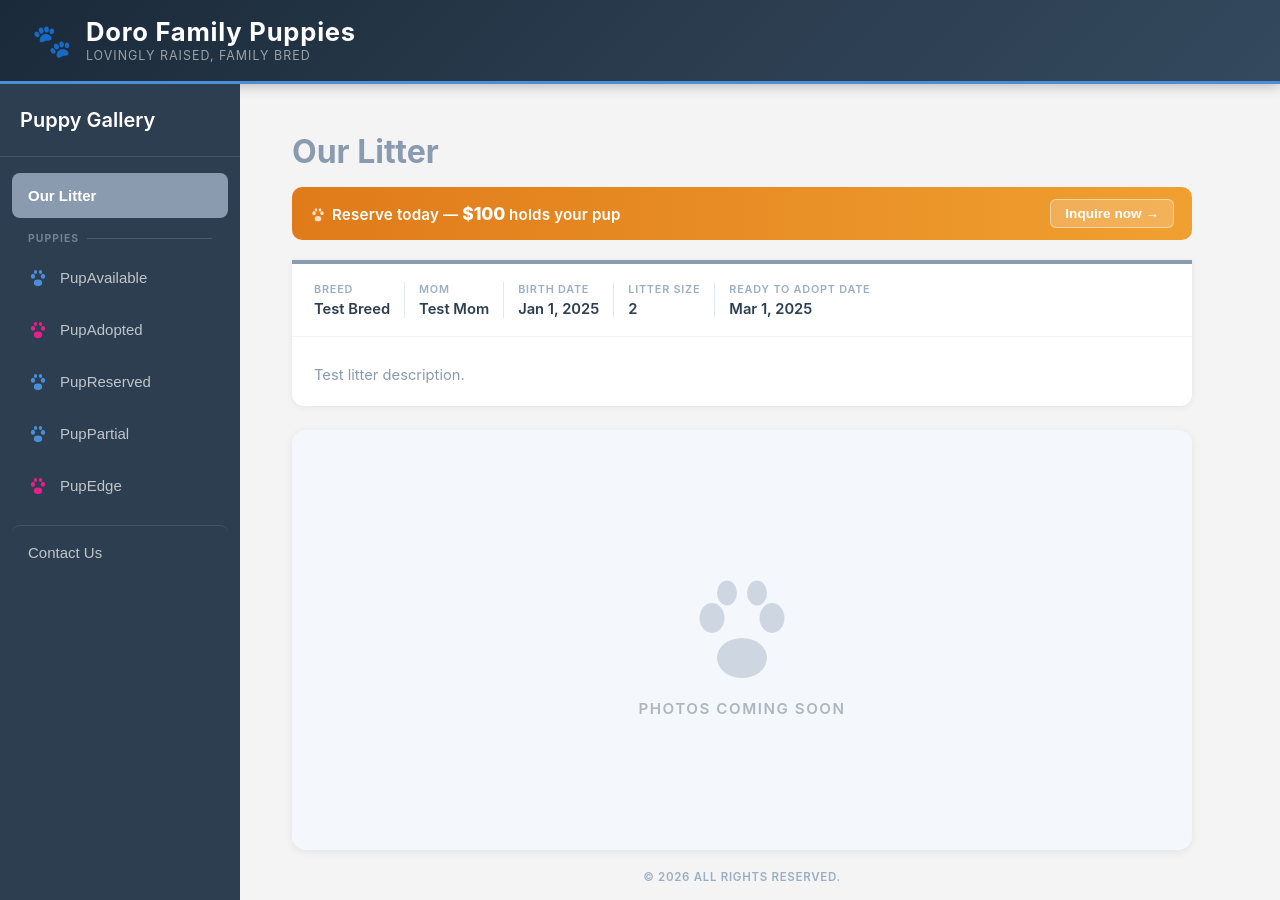
Test: Navigation › clicking a puppy tab updates the gallery heading
The image size is (1280, 900).
Click the button "PupAvailable" at (120, 277), box [12,253,228,301]
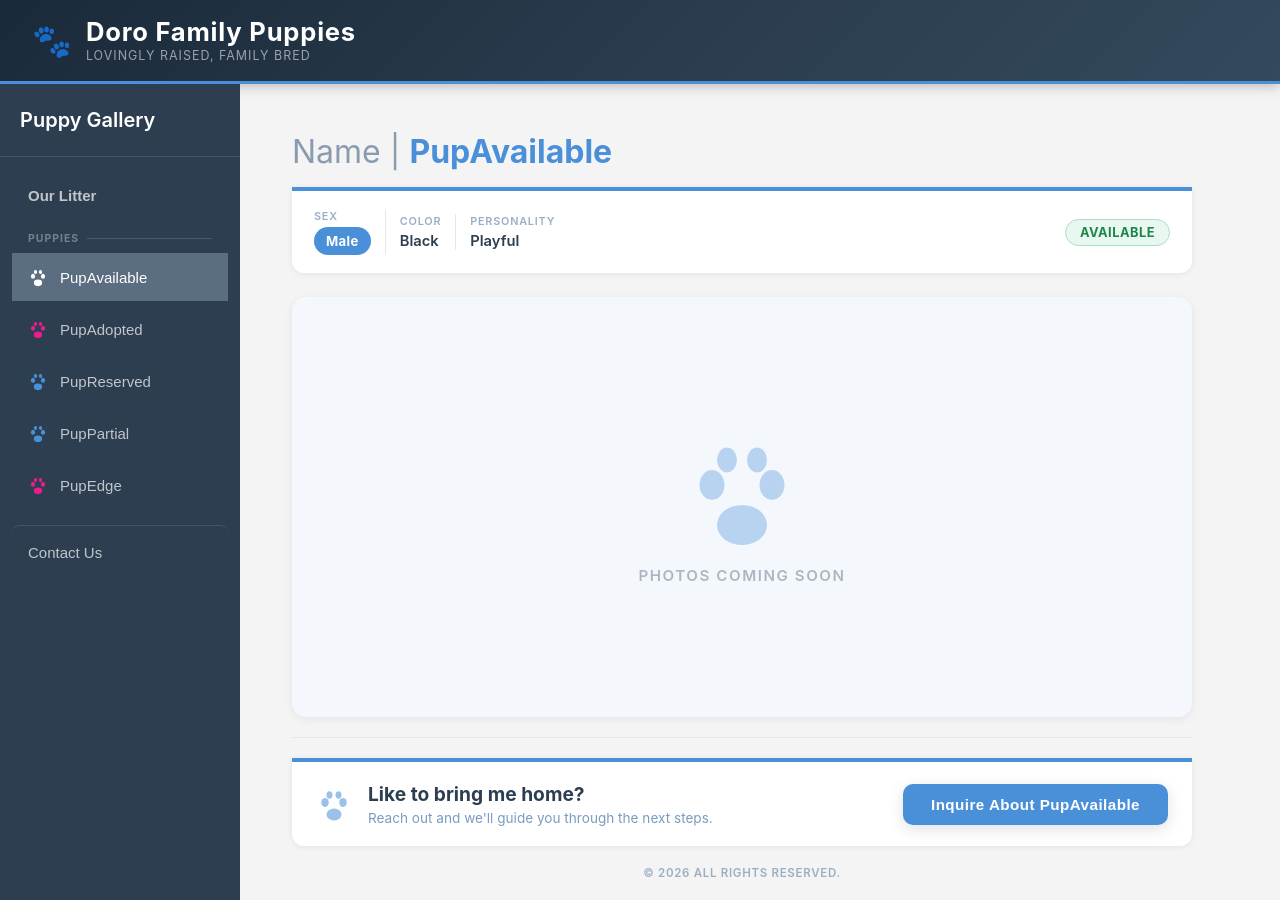
expect the heading "Name | PupAvailable" is shown: met, box [292,132,612,171]
